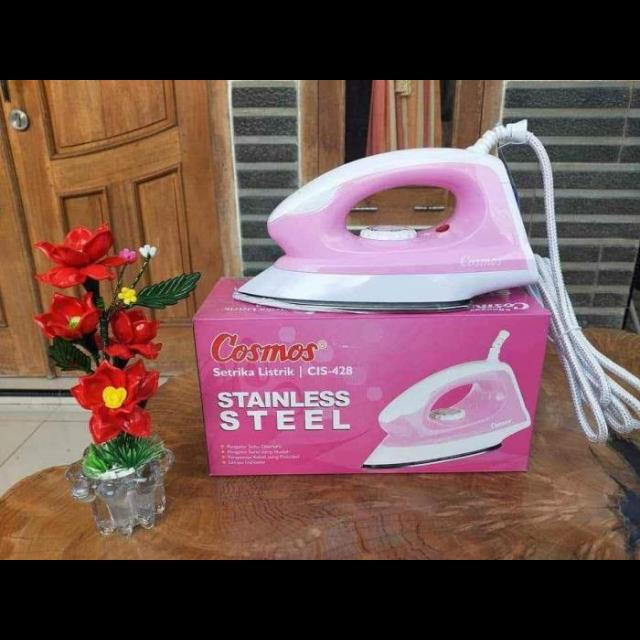Clothes-Iron: (237, 134, 598, 376)
